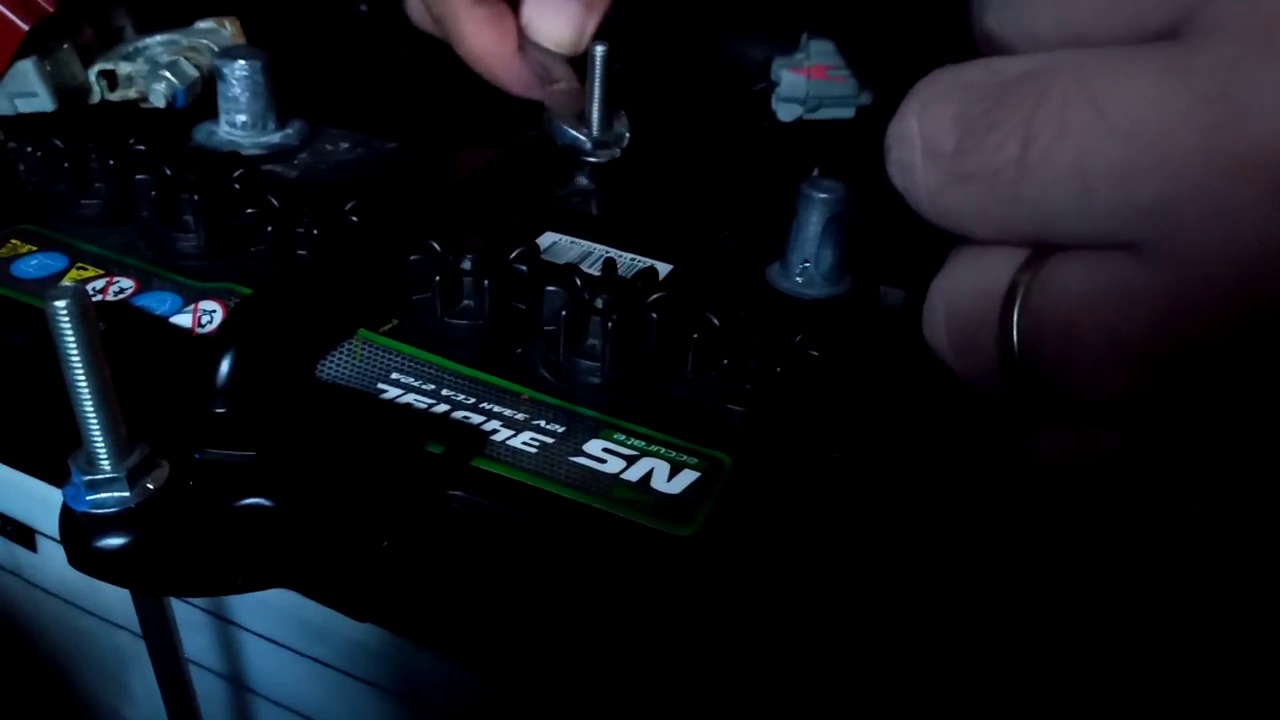battery: (6, 37, 945, 667)
